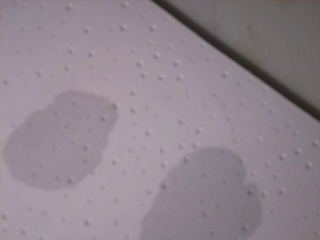Water_detected: (27, 101, 108, 184), (155, 156, 232, 240)
